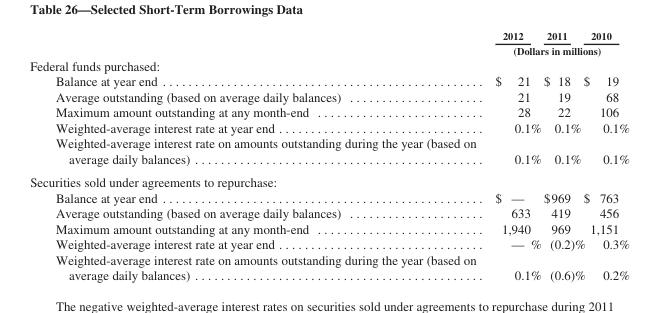table: (29, 29, 629, 282)
table column: (29, 29, 485, 282), (485, 29, 541, 282), (583, 29, 629, 282), (541, 29, 583, 282)
table column header: (29, 29, 629, 57)
table projected row header: (29, 170, 629, 189), (29, 57, 629, 73)
table row: (29, 135, 629, 170), (29, 251, 629, 282), (29, 170, 629, 189), (29, 57, 629, 73), (29, 88, 629, 104), (29, 119, 629, 135), (29, 189, 629, 205), (29, 220, 629, 236), (29, 42, 629, 57), (29, 73, 629, 88), (29, 104, 629, 119), (29, 205, 629, 220), (29, 236, 629, 251), (29, 29, 629, 42)
table spanning cell: (485, 42, 629, 57)
